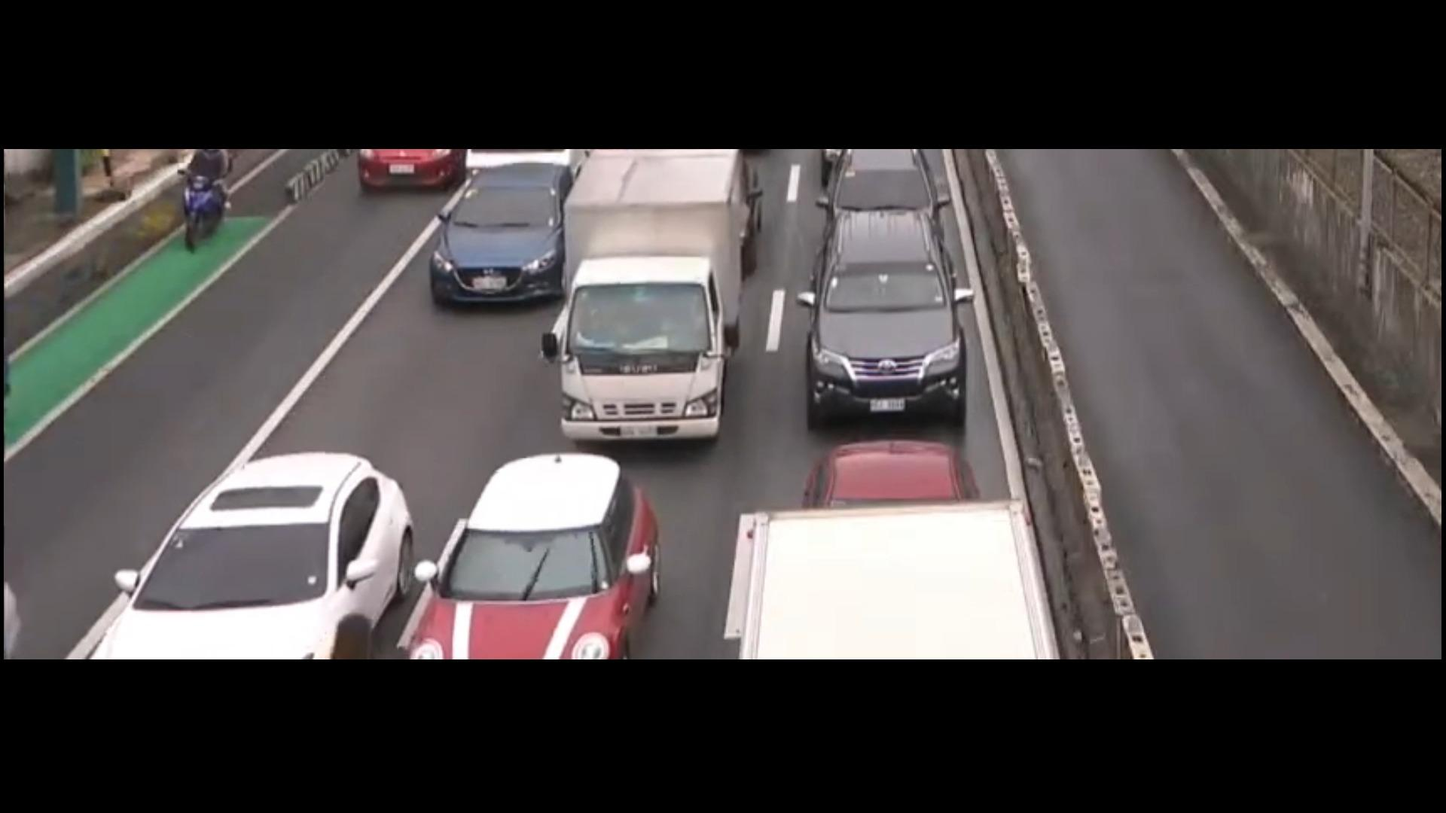SUV: (798, 218, 979, 423)
Sedan: (73, 450, 403, 662), (401, 452, 653, 664), (424, 166, 552, 305)
Truck: (555, 152, 749, 446), (729, 497, 1054, 659)
